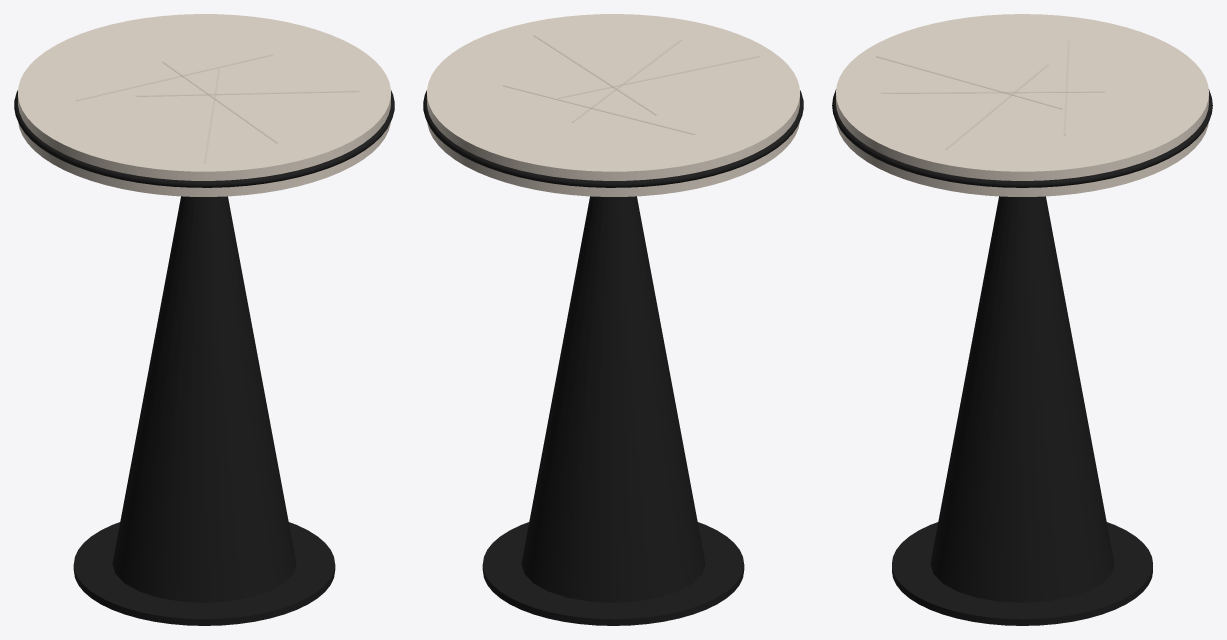
File: side-table.glb
The picture shows the model from 3 angles, left to right: view 1: azimuth 30°, elevation 25°; view 2: azimuth 150°, elevation 25°; view 3: azimuth 270°, elevation 25°; orthographic projection.
Size of the model in its own units: 0.408 by 0.5665 by 0.408.
